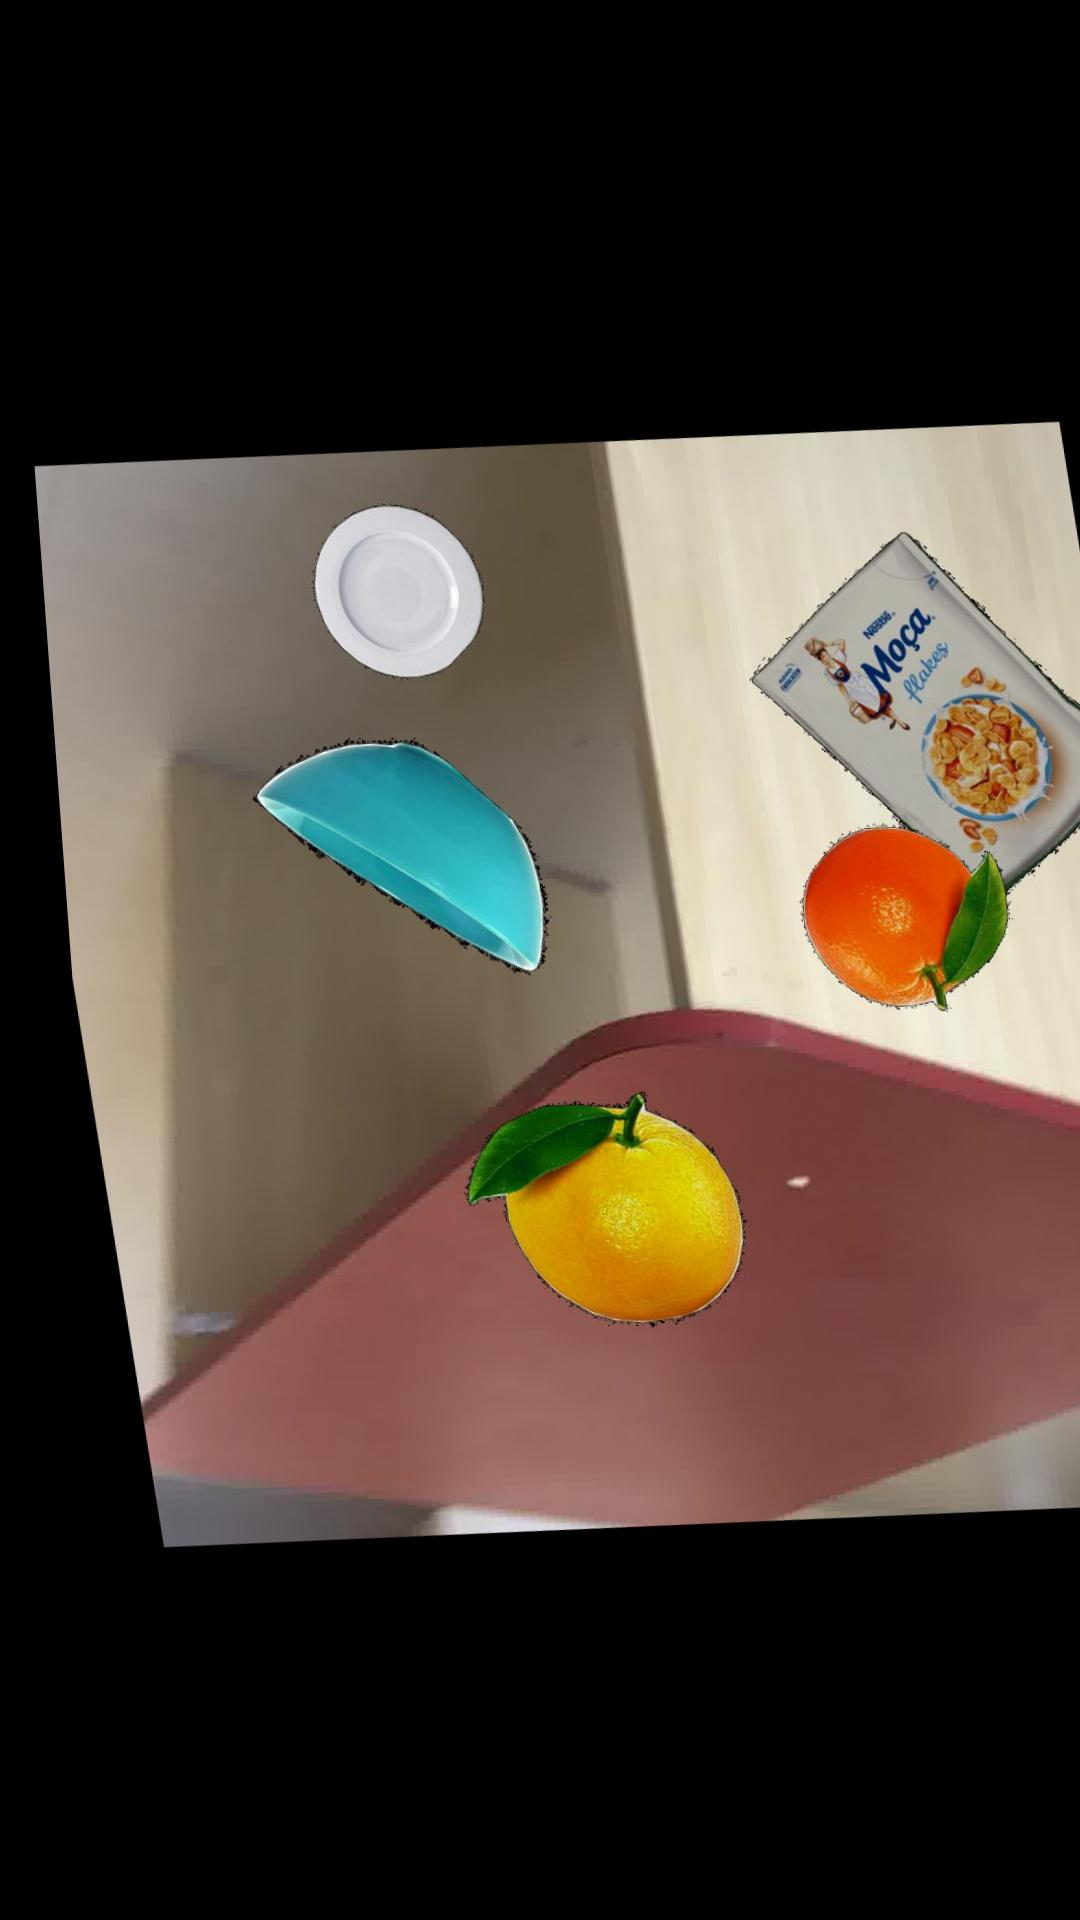bowl: (239, 735, 533, 967)
corn flakes: (740, 521, 1080, 881)
orange: (444, 1084, 724, 1320), (786, 815, 993, 1000)
plate: (302, 498, 473, 673)
